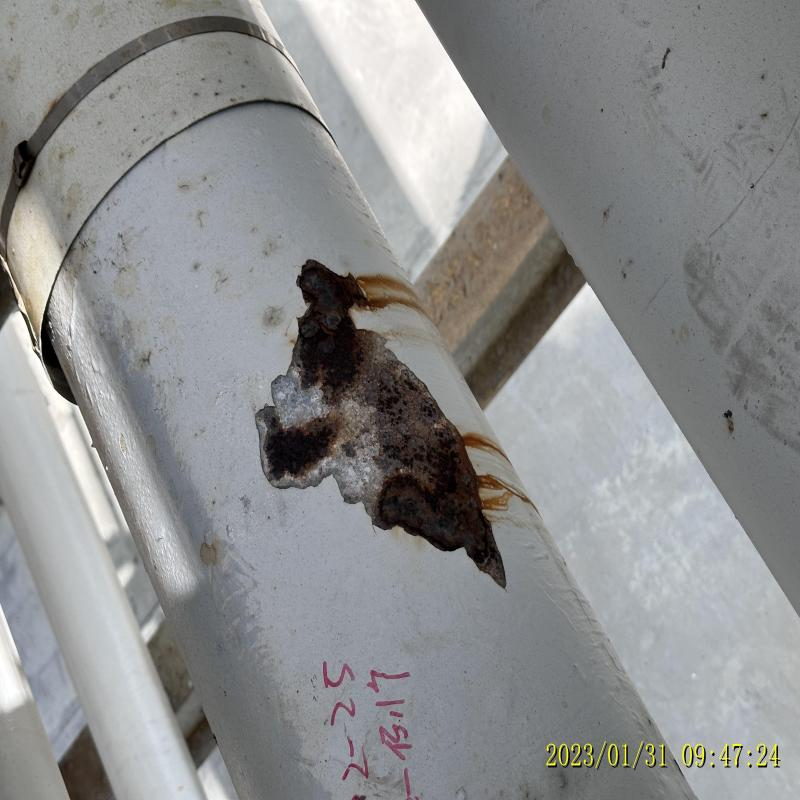corrosion: (295, 337, 452, 487)
